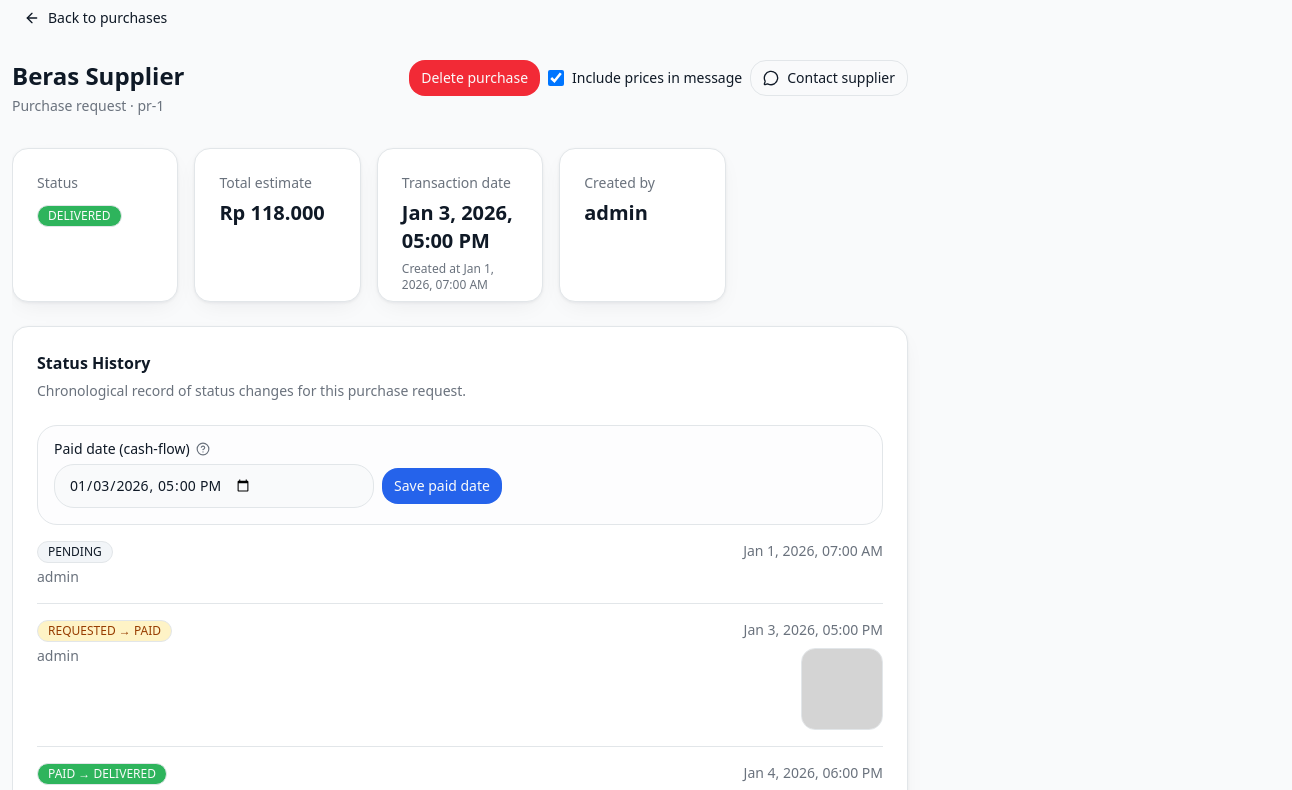
Test: AdminPurchaseDetailContent › allows admin with records.edit_date to edit paid date on delivered purchase
Expected: the heading "Beras Supplier" is shown, [12, 60, 184, 92]
Replace the text in the field with test id "purchase-paid-date-input" with "2026-01-05T14:30" at (214, 486), box [54, 464, 374, 508]
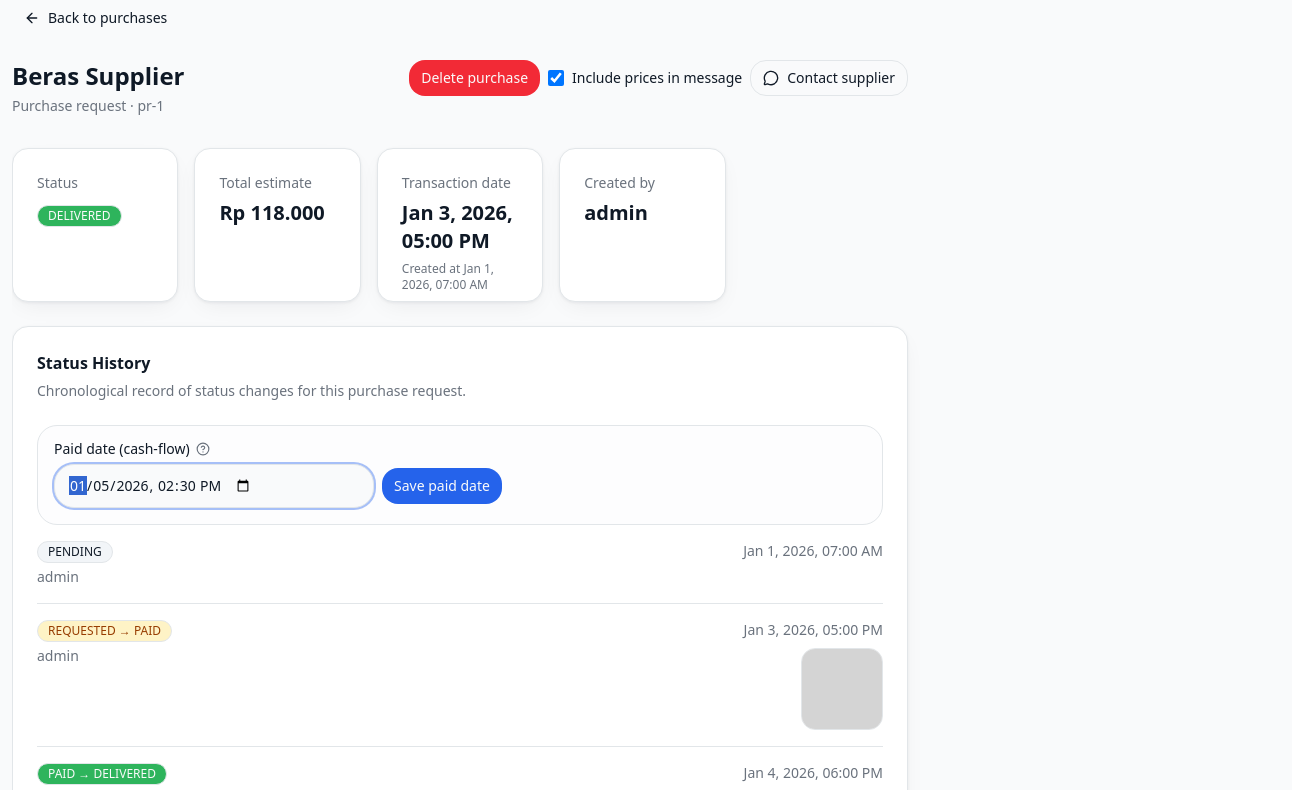
Click the button with test id "purchase-paid-date-save" at (442, 486), box [382, 468, 502, 504]
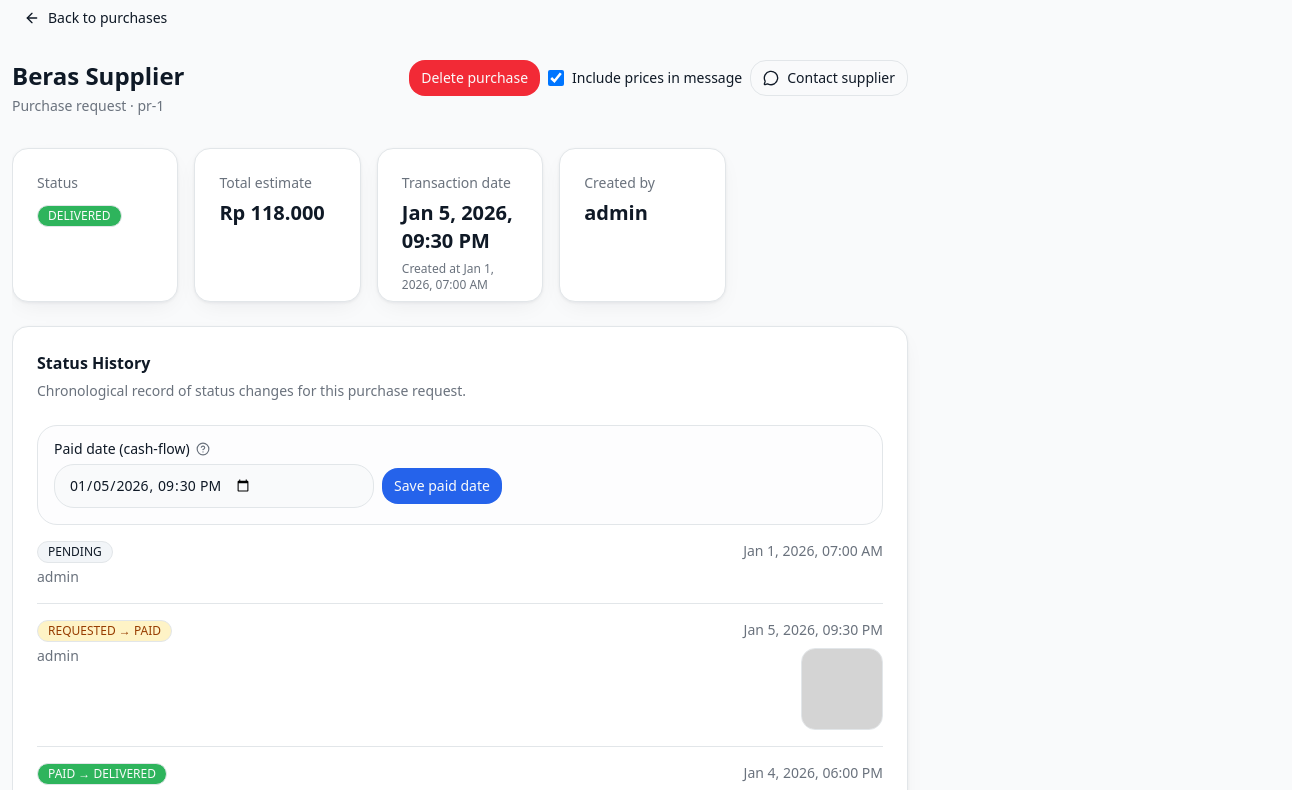
Expected: the heading "Jan 5, 2026, 09:30 PM" is shown, [402, 199, 518, 255]
